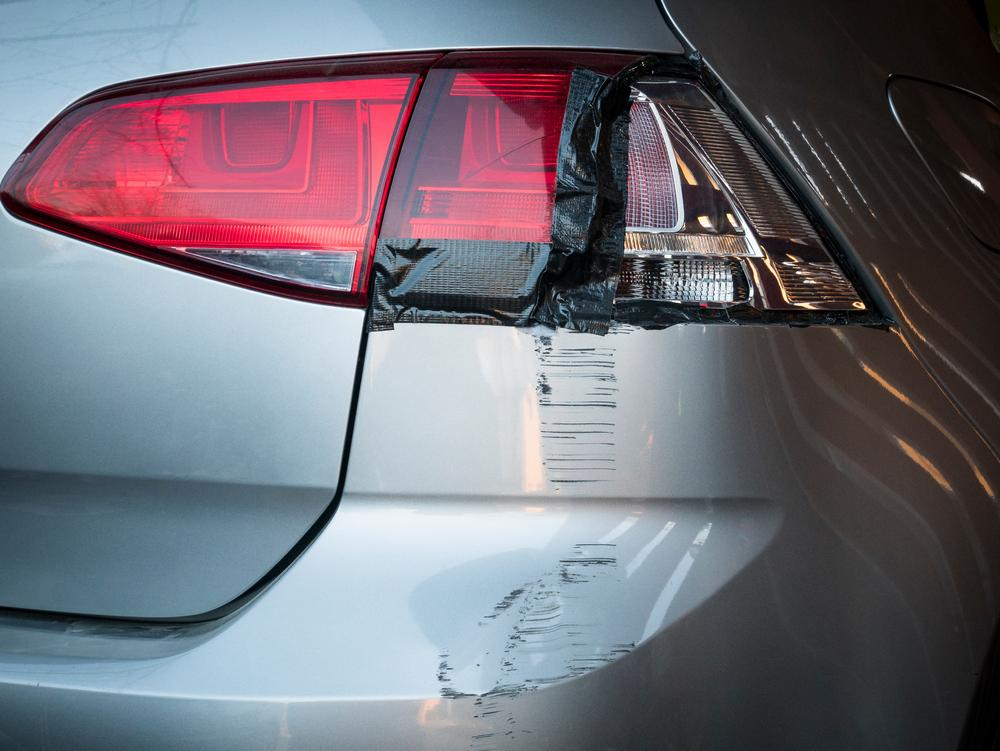scratch: (428, 534, 647, 751), (532, 324, 632, 491)
